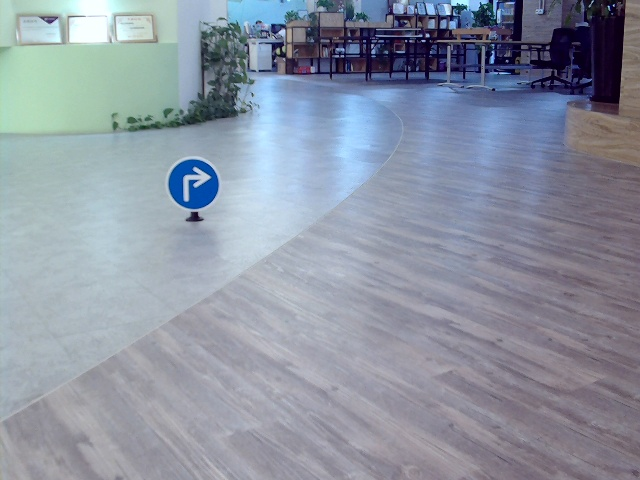turn_right: (179, 166, 208, 203)
